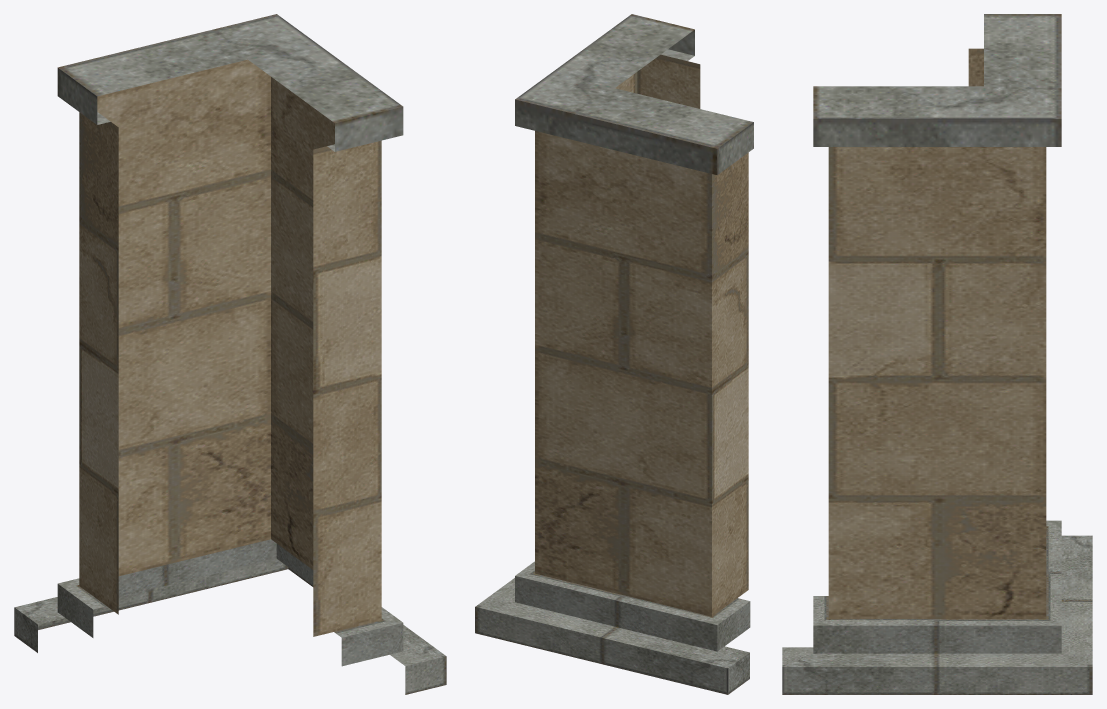
Rendered from pillar_buttress_outer.fbx.
The picture shows the model from 3 angles, left to right: view 1: azimuth 30°, elevation 25°; view 2: azimuth 150°, elevation 25°; view 3: azimuth 270°, elevation 25°; orthographic projection. The views are drawn at different scales.
Parts seen in each view (by area): view 1: pillar_buttress_outer; view 2: pillar_buttress_outer; view 3: pillar_buttress_outer.
Boxes of the visible parts, x1,y1,x2,y2 form: pillar_buttress_outer: (14, 14, 446, 694); pillar_buttress_outer: (475, 14, 753, 694); pillar_buttress_outer: (782, 14, 1092, 694).
Bounding box in the file's own units: 100 × 200 × 100.
